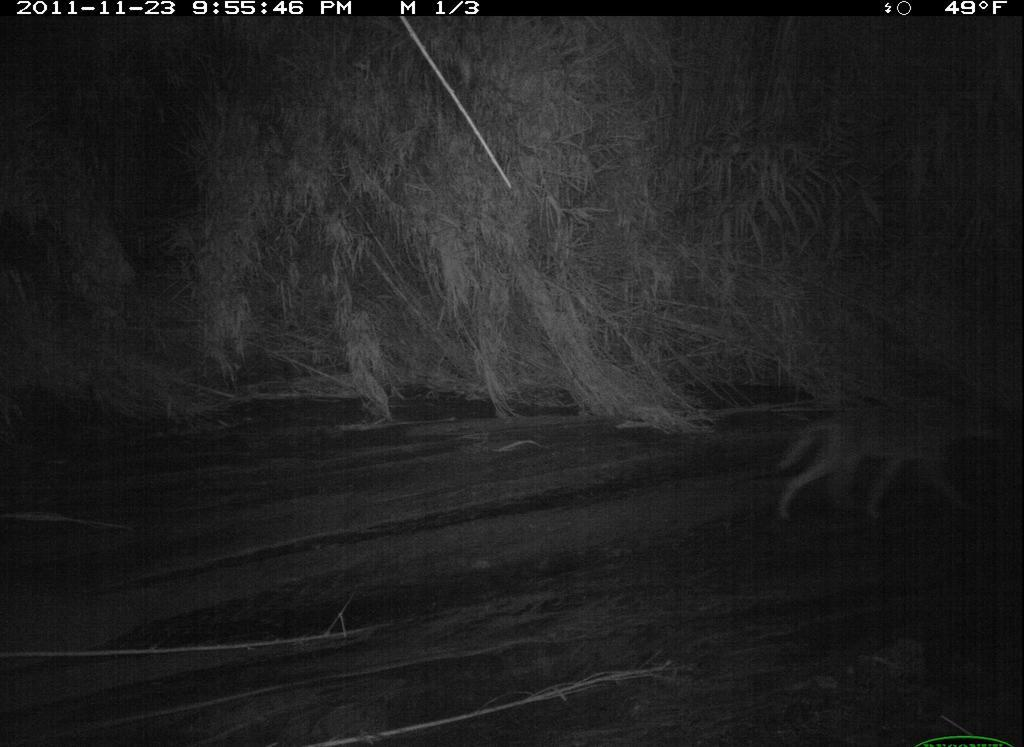coyote: (770, 388, 1010, 530)
